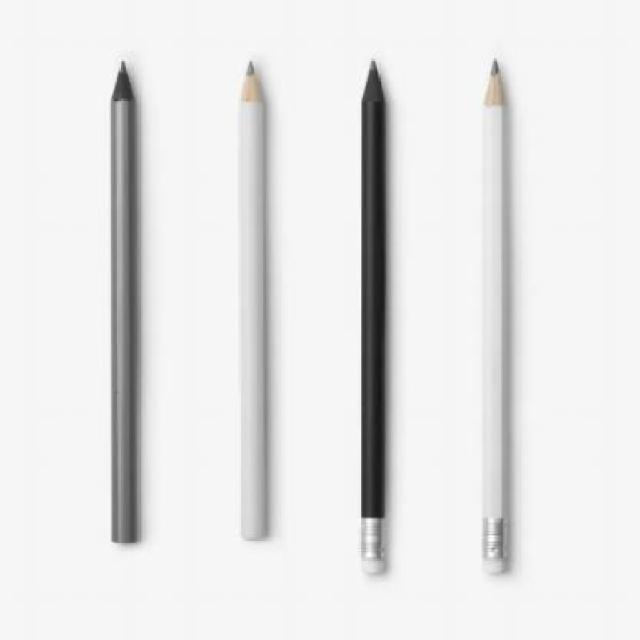pencil: (472, 49, 520, 582), (230, 52, 276, 543), (99, 52, 144, 548), (353, 52, 393, 580)
